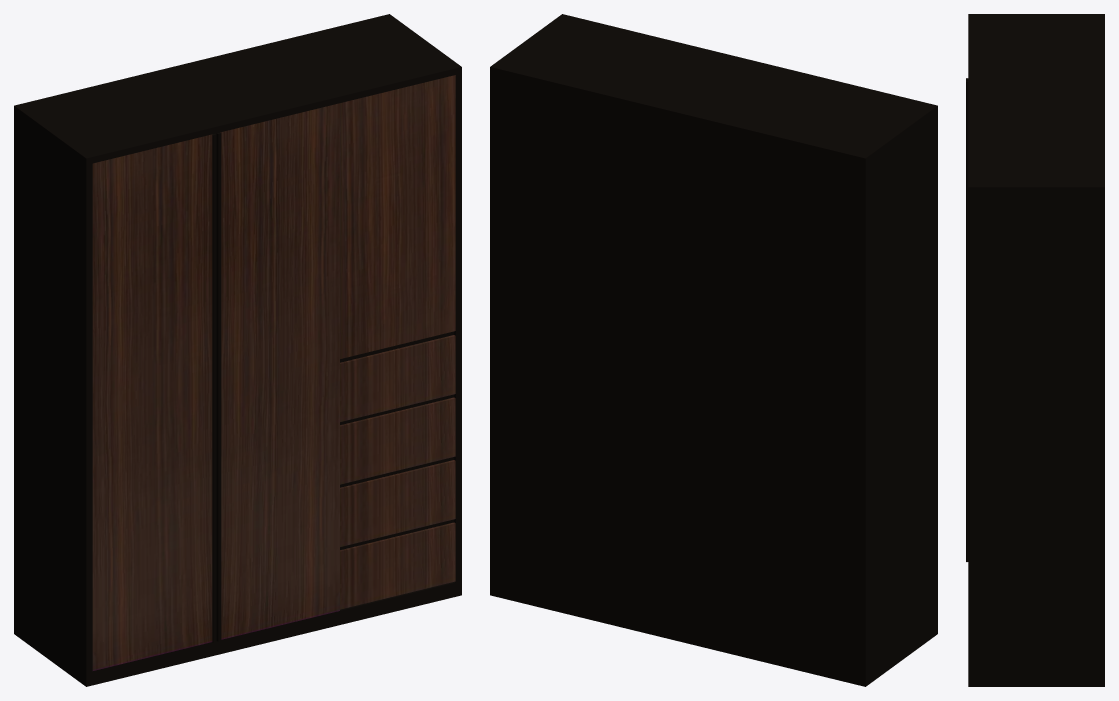
File: wardrobe.glb
3 renders of one model, left to right at view 1: azimuth 30°, elevation 25°; view 2: azimuth 150°, elevation 25°; view 3: azimuth 270°, elevation 25°, orthographic. The views are drawn at different scales.
Parts seen in each view (by area): view 1: Tu ao_01 - Default_0; view 2: Tu ao_01 - Default_0; view 3: Tu ao_01 - Default_0.
Boxes of the visible parts, bbox=[...] form: Tu ao_01 - Default_0: bbox=[14, 14, 461, 686]; Tu ao_01 - Default_0: bbox=[490, 14, 937, 686]; Tu ao_01 - Default_0: bbox=[966, 14, 1104, 686].
Size of the model in its own units: 1.49 by 2 by 0.5041.
Materials: 1 (1 with a texture image).
